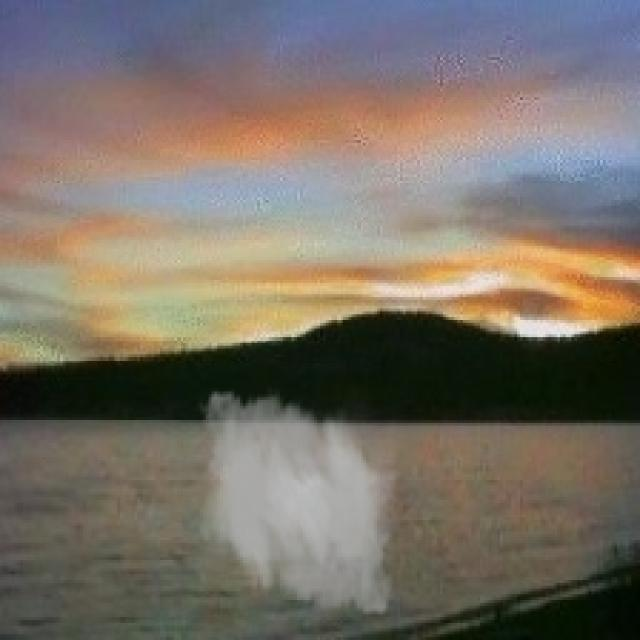smoke: (183, 380, 408, 626)
